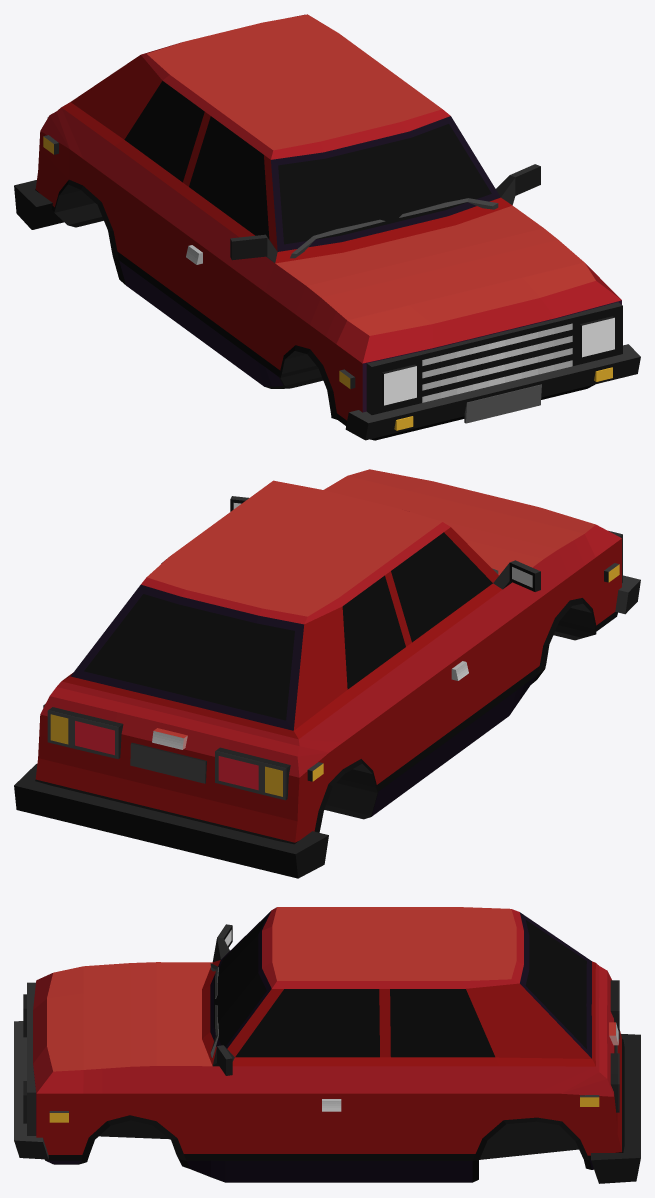
The model's file is Coupe.001.fbx.
3 renders of one model, top to bottom at view 1: azimuth 30°, elevation 25°; view 2: azimuth 150°, elevation 25°; view 3: azimuth 270°, elevation 25°, orthographic. The views are drawn at different scales.
Parts seen in each view (by area): view 1: Coupe.001; view 2: Coupe.001; view 3: Coupe.001.
Boxes of the visible parts, left/top/right/bottom form: Coupe.001: left=14, top=14, right=640, bottom=440; Coupe.001: left=14, top=469, right=640, bottom=878; Coupe.001: left=14, top=907, right=640, bottom=1183.
Size of the model in its own units: 1.75 by 1.14 by 3.44.
